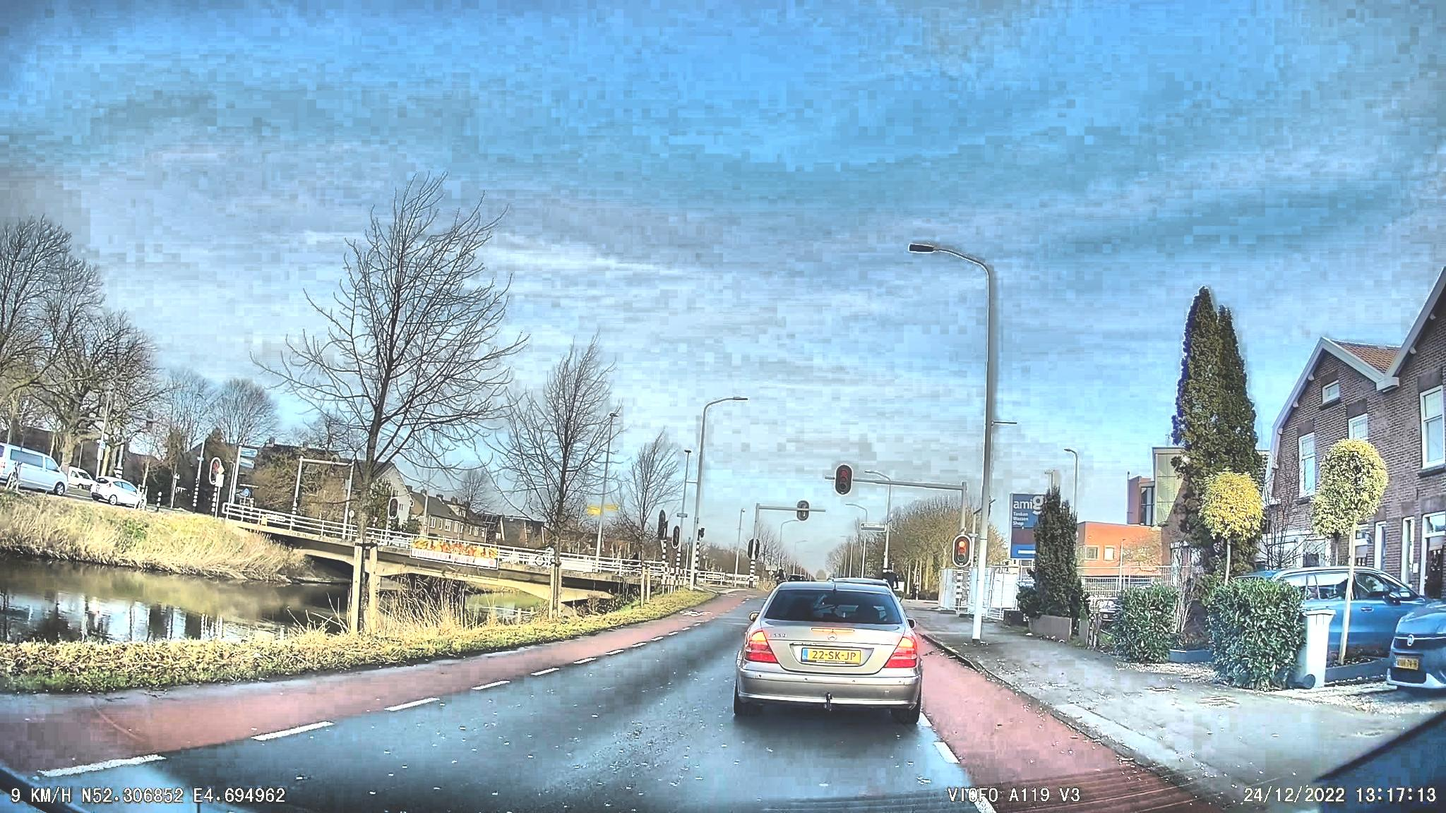Roads: (0, 602, 1216, 813)
